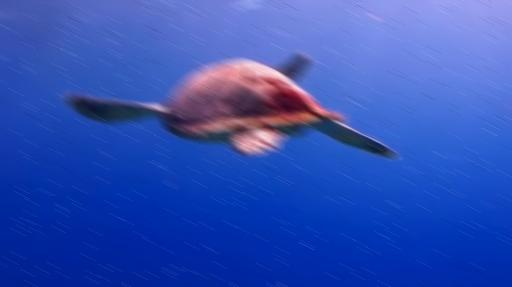Fish: (66, 56, 395, 156)
